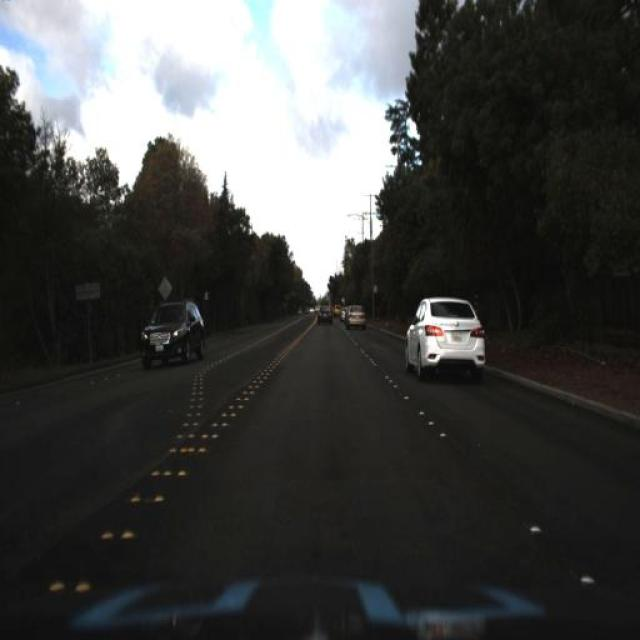car: (405, 296, 486, 388), (134, 298, 200, 367), (345, 304, 366, 338), (315, 302, 334, 326)
